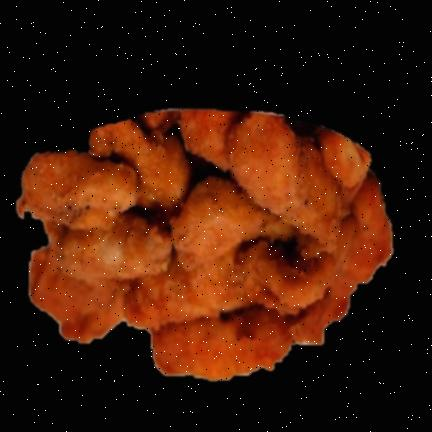chicken: (18, 111, 391, 379)
